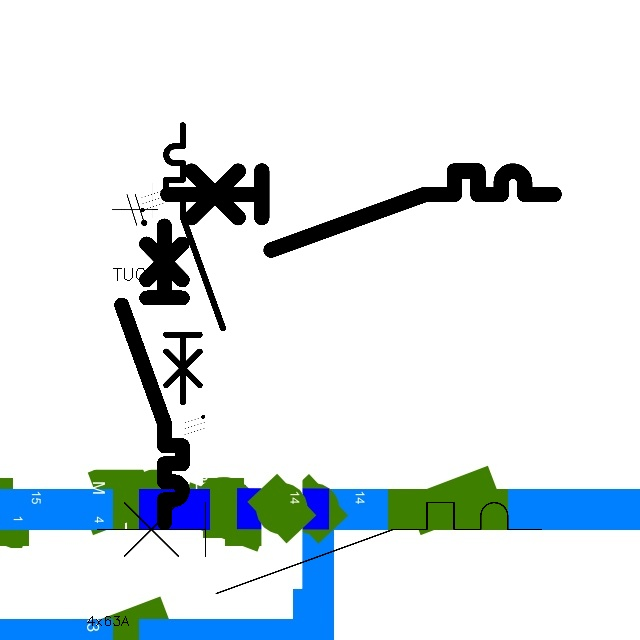interruptor_termomagnetico: (86, 491, 553, 605), (157, 161, 563, 260), (114, 218, 190, 529), (159, 118, 230, 409)
